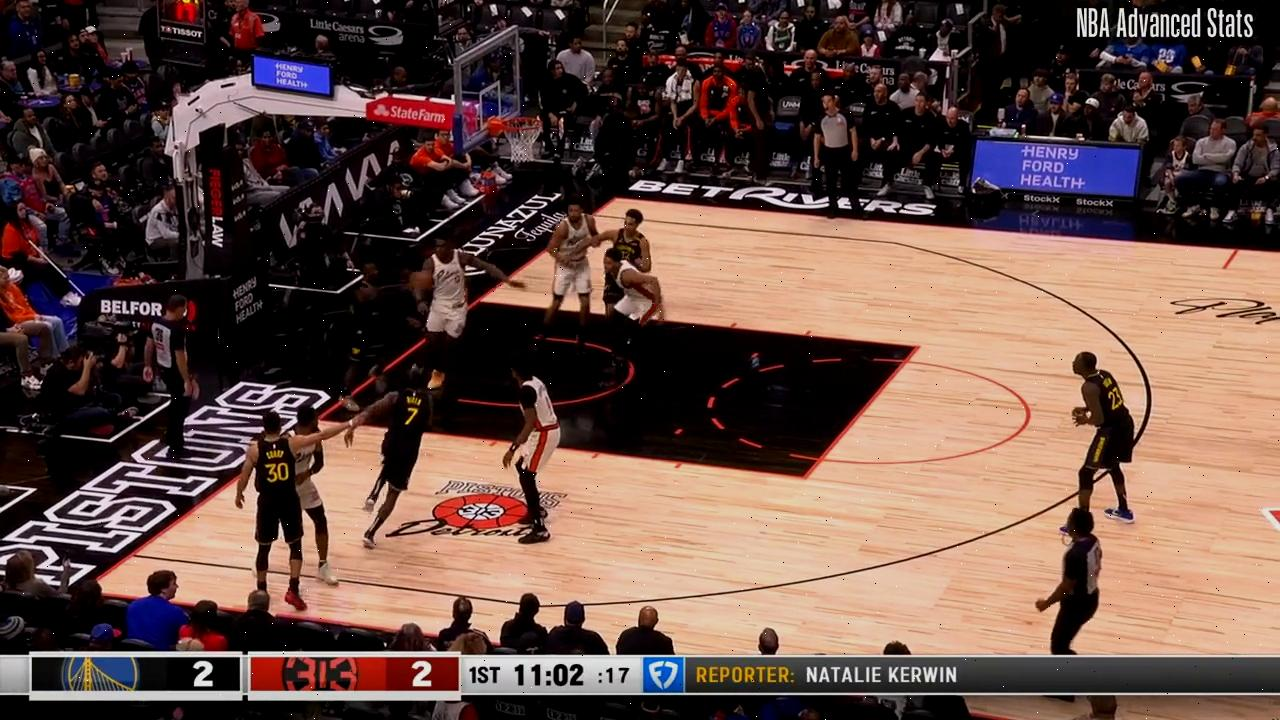basketball: (405, 268, 433, 293)
